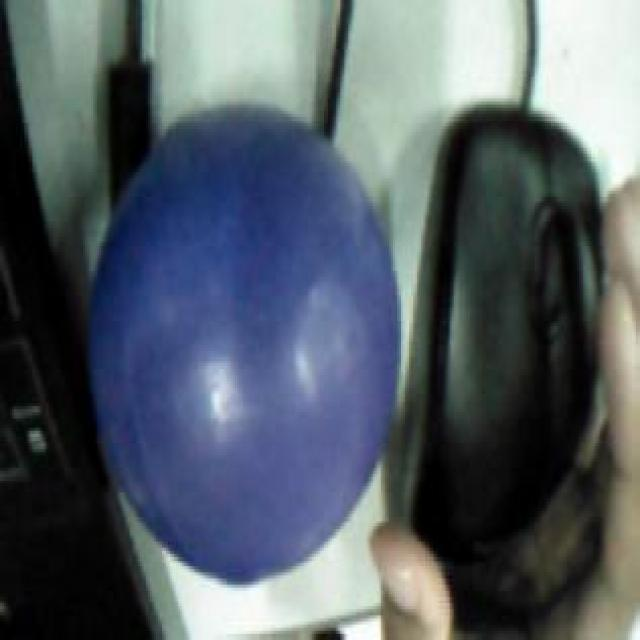BallPurple: (85, 100, 402, 583)
